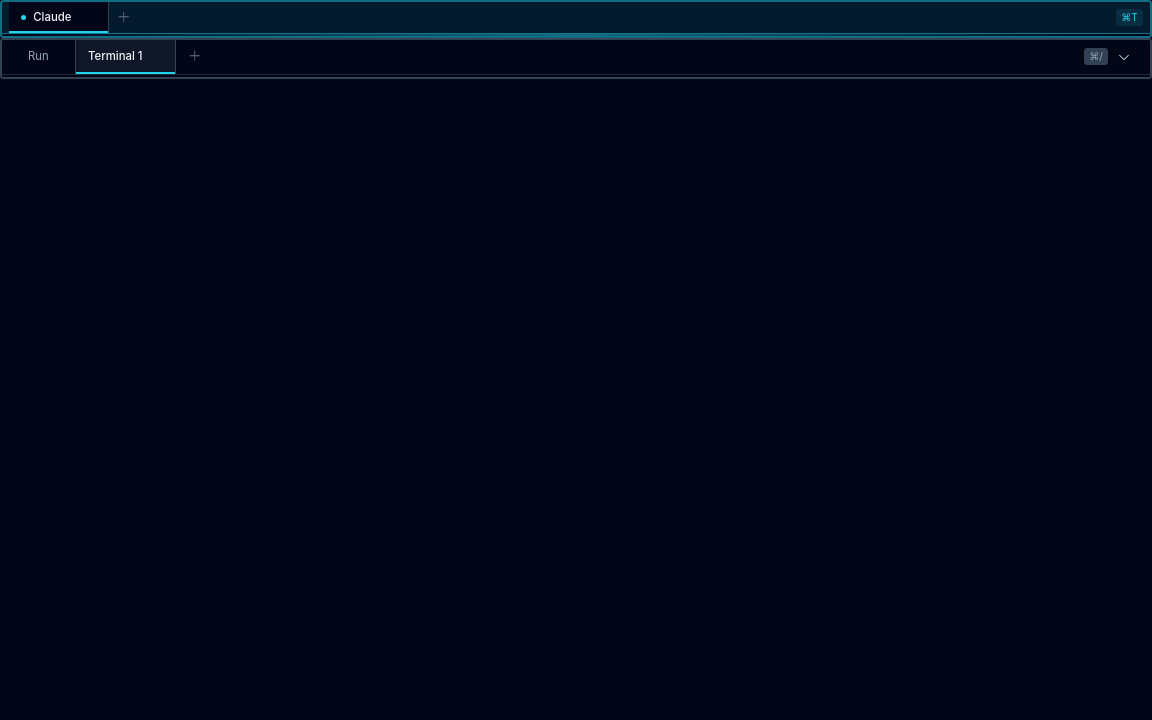
Test case: TerminalGrid › Terminal Tab Management › adds only one bottom terminal per click
Click the button titled "Add new terminal". click: point(195, 56)
box: [183, 44, 207, 68]
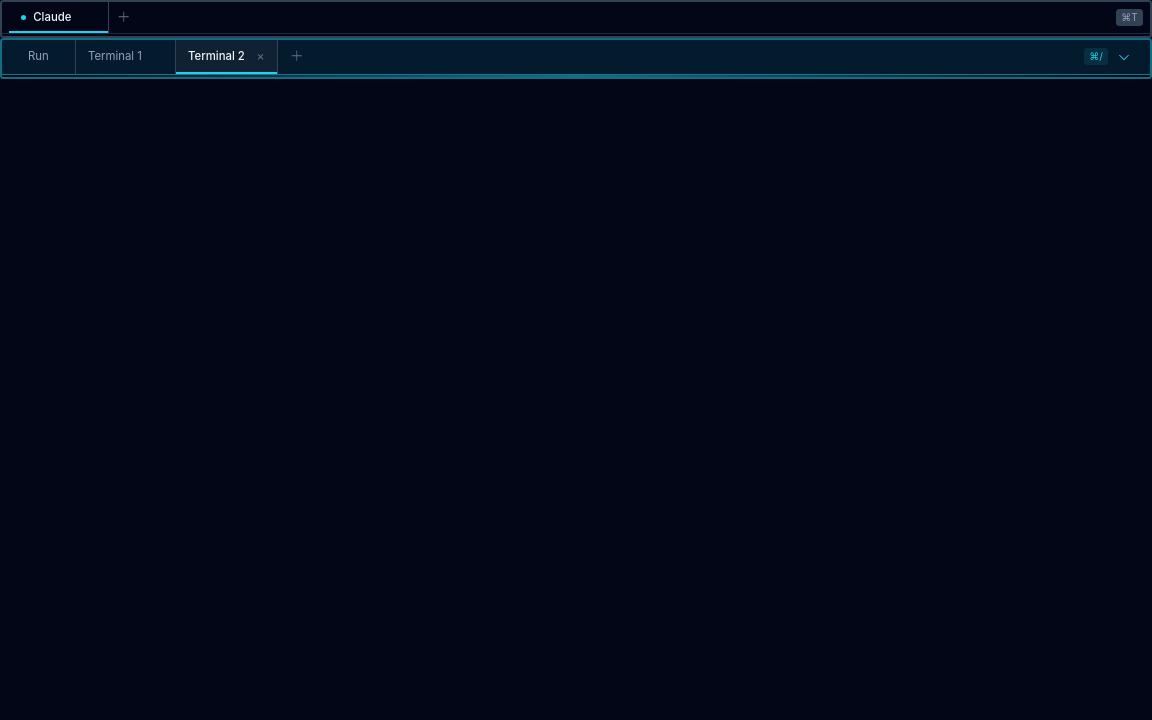
Result: the text "Terminal 2" is shown at [188, 48, 245, 65]
